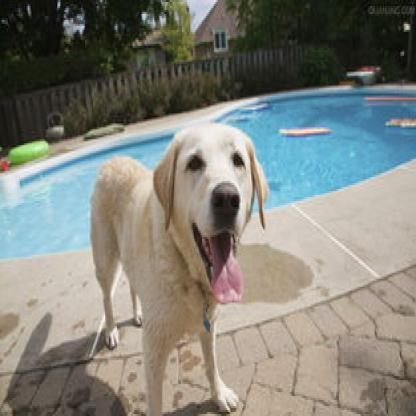Labarador Retriever: (89, 121, 267, 416)
